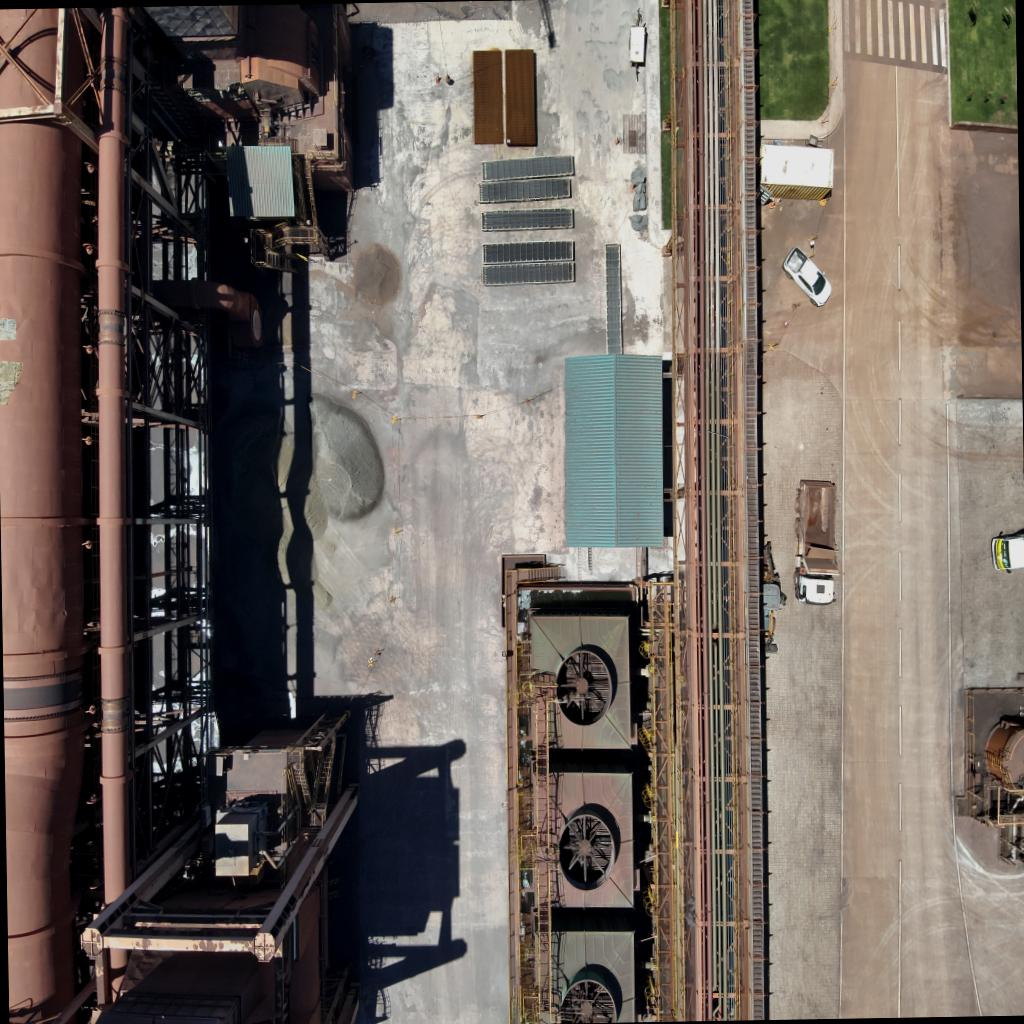Failures: (183, 78, 249, 108), (0, 359, 24, 407), (0, 297, 16, 342)
